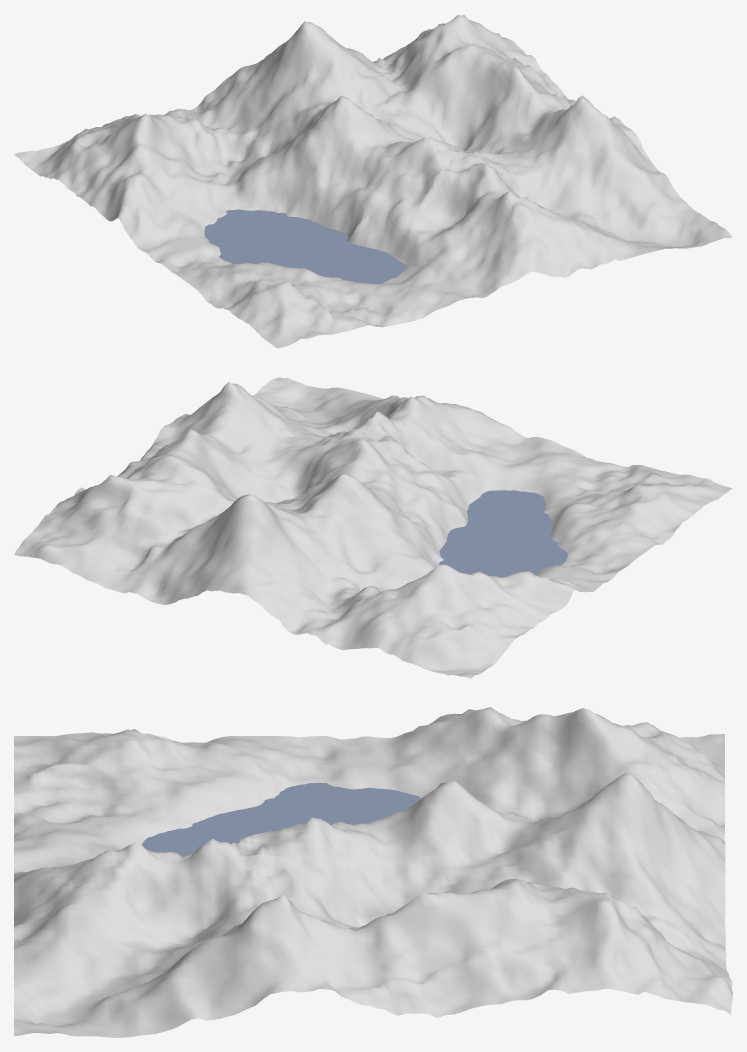
The model's file is mountain.FBX.
3 views of the same model, one above another, from view 1: azimuth 30°, elevation 25°; view 2: azimuth 150°, elevation 25°; view 3: azimuth 270°, elevation 25° (orthographic). The views are drawn at different scales.
Visible parts, largest first — view 1: mountains, lake; view 2: mountains, lake; view 3: mountains, lake.
Part boxes in pixels (<box>): mountains: <box>14,14,732,348</box>; lake: <box>204,209,407,284</box>; mountains: <box>14,377,732,678</box>; lake: <box>439,490,567,577</box>; mountains: <box>14,707,732,1037</box>; lake: <box>142,782,420,856</box>.
Size of the model in its own units: 1000000 by 332279 by 1011307.
